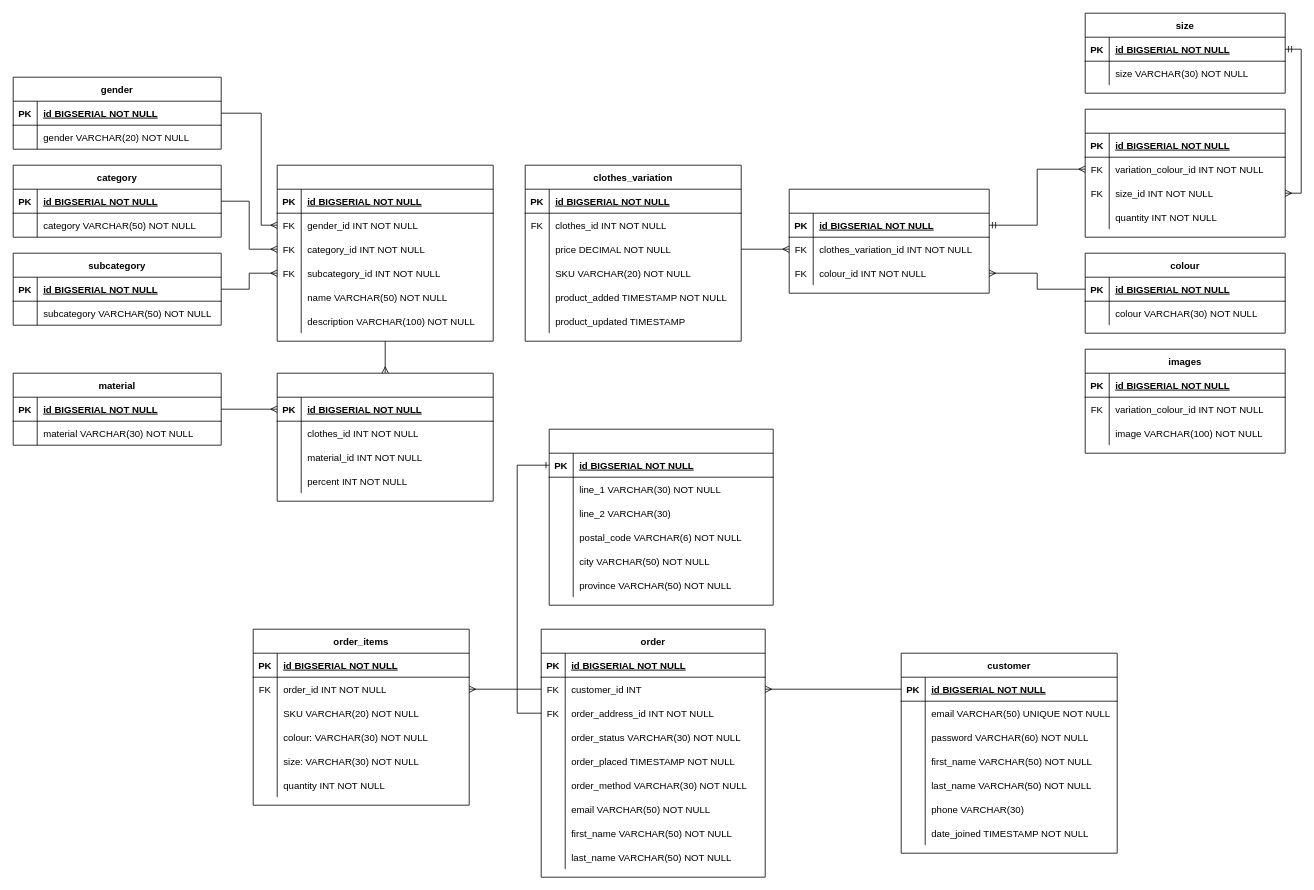
Image size: 1314x890. Some labels were removed from this diagram. Here are the shapes that lost their labels. From the top down, the box of each, then its label:
(1084, 108, 1285, 237): variation_colour_size
(276, 164, 493, 341): clothes
(788, 188, 989, 293): variation_colour
(276, 372, 493, 501): clothes_material
(548, 428, 773, 605): order_address
